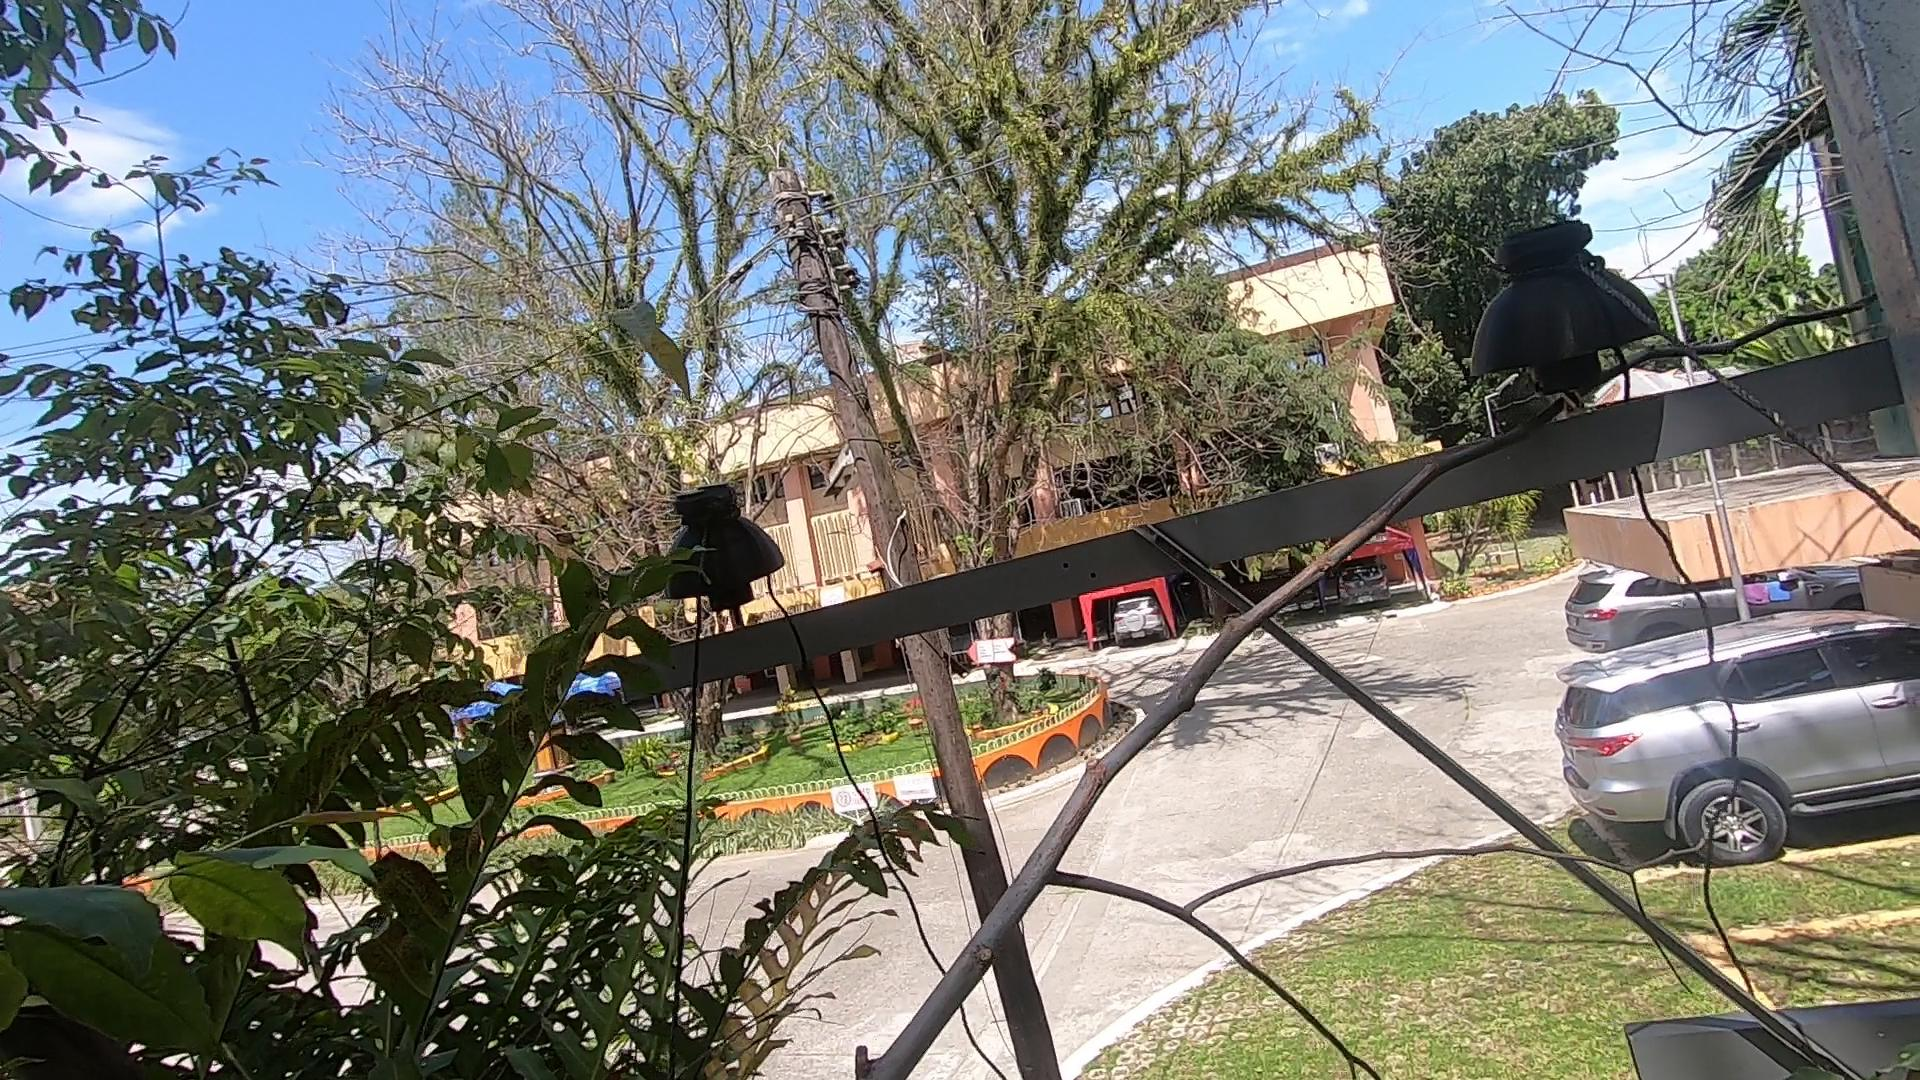tree branch: (818, 311, 1916, 1080)
